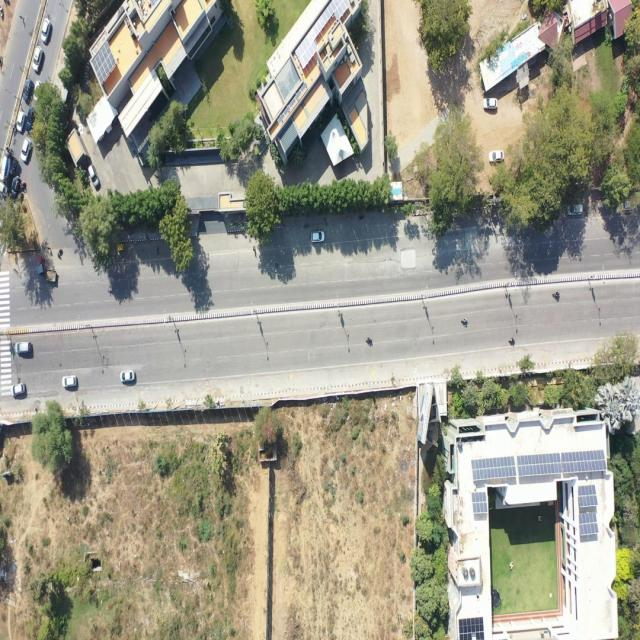3W: (116, 240, 127, 256)
Cars: (13, 337, 34, 356), (20, 136, 33, 164), (30, 46, 43, 74), (564, 198, 584, 216), (119, 368, 138, 386), (10, 382, 30, 399), (88, 163, 100, 190), (61, 373, 80, 390), (483, 92, 499, 111), (488, 148, 506, 164), (621, 196, 637, 214), (40, 20, 51, 46), (23, 76, 33, 103), (26, 104, 35, 133), (310, 228, 326, 244), (16, 111, 25, 135), (33, 78, 42, 101)
M2W: (550, 291, 564, 304), (364, 335, 376, 346), (459, 317, 472, 327), (20, 180, 28, 196), (56, 246, 64, 262), (0, 6, 5, 24), (509, 336, 516, 347), (357, 214, 366, 222), (0, 57, 4, 72)
MAV: (0, 138, 17, 195), (37, 239, 55, 288)
